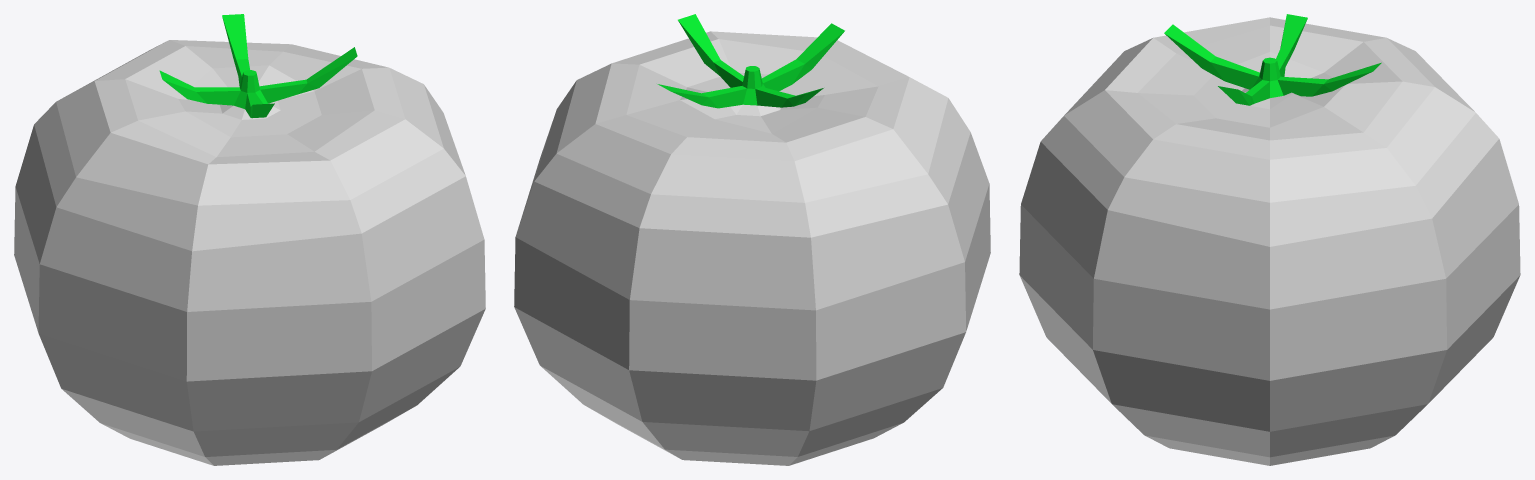
Rendered from tomatp.fbx.
The picture shows the model from 3 angles, left to right: view 1: azimuth 30°, elevation 25°; view 2: azimuth 150°, elevation 25°; view 3: azimuth 270°, elevation 25°; orthographic projection. The views are drawn at different scales.
Visible parts, largest first — view 1: Cylinder; view 2: Cylinder; view 3: Cylinder.
Boxes of the visible parts, box(x1,y1,x2,y2) form: Cylinder: box(14, 14, 485, 465); Cylinder: box(514, 14, 990, 465); Cylinder: box(1019, 14, 1520, 465).
Size of the model in its own units: 323 by 274 by 323.
